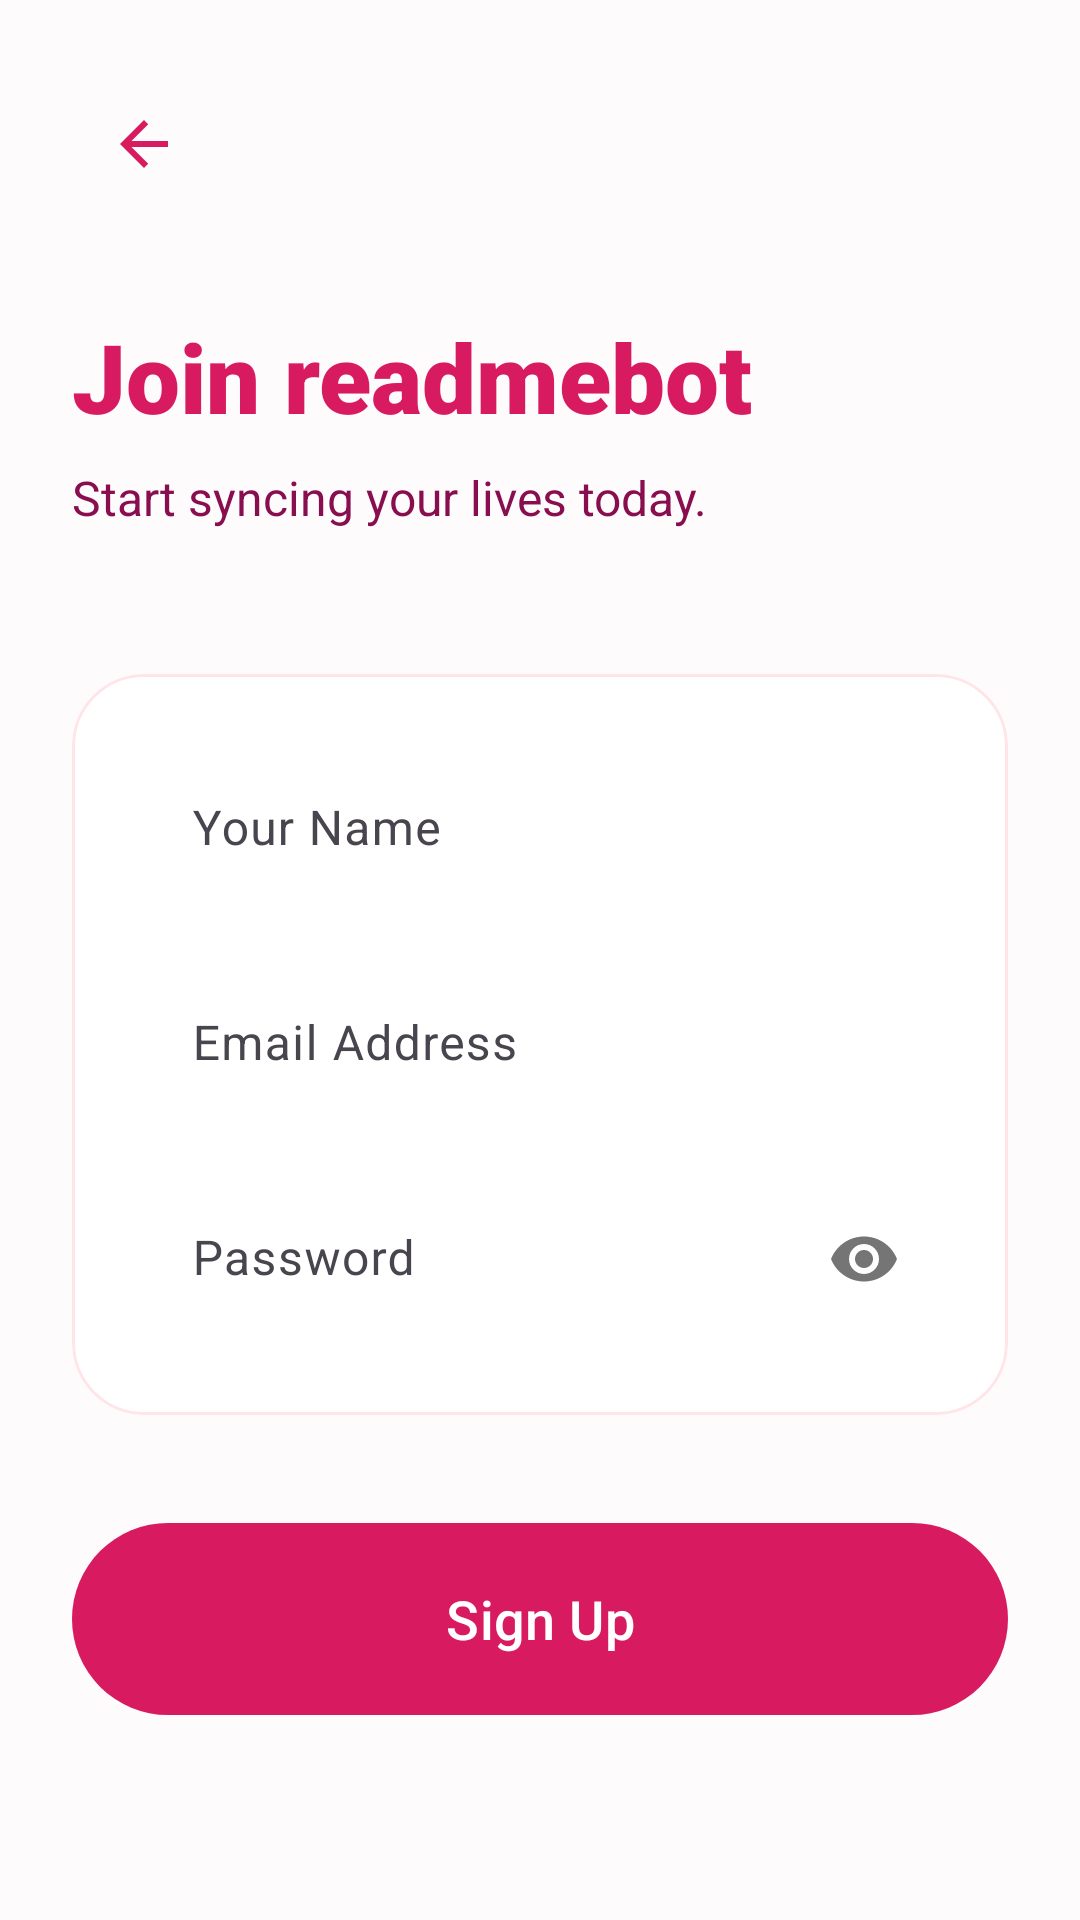

Named icons in this screenshot (1080px×1920px) and their bounding boxes, (x1, y1, x2, y2):
Back: (120, 120, 168, 168)
